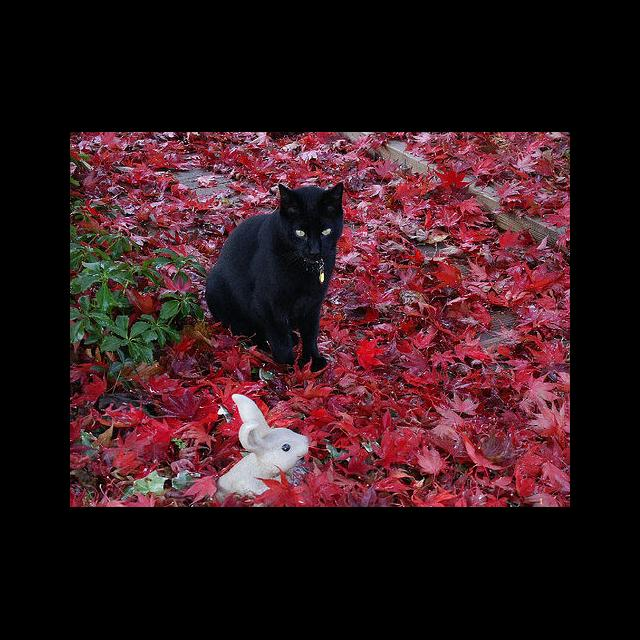animals: (279, 182, 341, 256)
